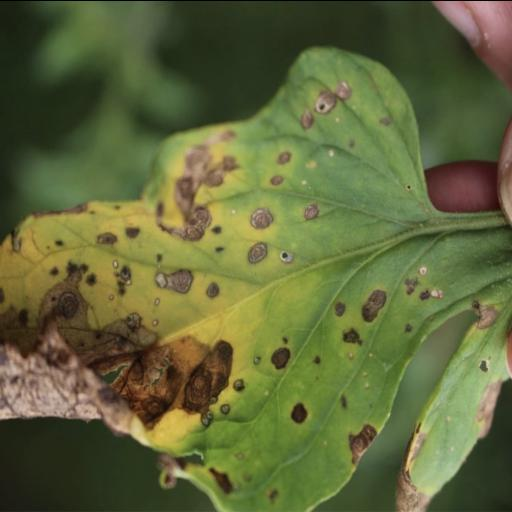disease_tomato: (0, 44, 512, 512)
